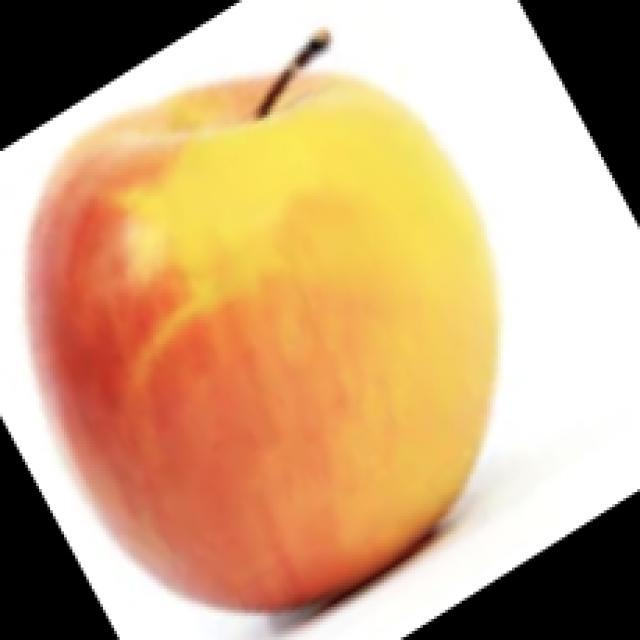Fresh Apple: (7, 65, 500, 607)
